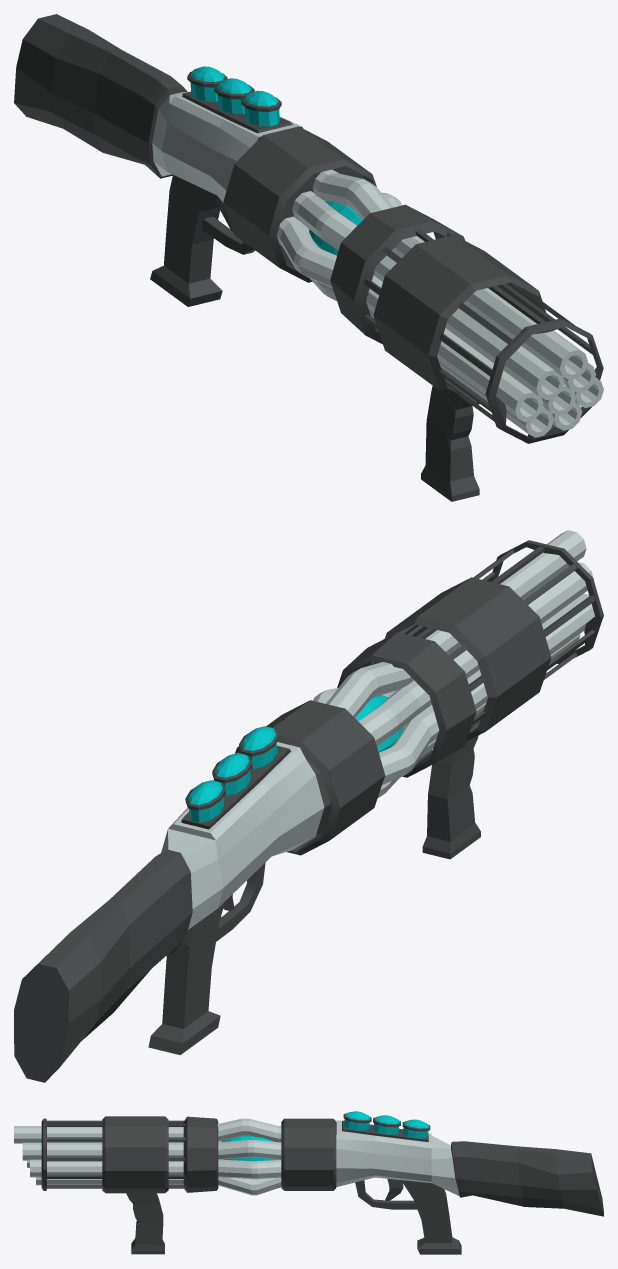
Rendered from Shotgun_B.fbx.
3 views of the same model, one above another, from view 1: azimuth 30°, elevation 25°; view 2: azimuth 150°, elevation 25°; view 3: azimuth 270°, elevation 25° (orthographic). The views are drawn at different scales.
Visible parts, largest first — view 1: pCylinder104, pCylinder130, pCylinder86, pCylinder85, pCube57, pCylinder75, pCylinder73, pCylinder77, pCylinder131, pCylinder94, pCylinder89, pCylinder88 (+7 smaller); view 2: pCylinder104, pCylinder130, pCylinder86, pCylinder85, pCube57, pCylinder75, pCylinder89, pCylinder94, pCylinder88, pCylinder73, pCylinder77, pCylinder131 (+5 smaller); view 3: pCylinder104, pCylinder130, pCylinder86, pCylinder85, pCube57, pCylinder76, pCylinder75, pCylinder80, pCylinder91, group21_pCylinder76, pCylinder89, group21_pCylinder79 (+15 smaller).
Boxes of the visible parts, x1=… form: pCylinder104: x1=14, y1=14, x2=364, y2=267; pCylinder130: x1=373, y1=235, x2=546, y2=501; pCylinder86: x1=223, y1=126, x2=376, y2=282; pCylinder85: x1=330, y1=204, x2=465, y2=344; pCube57: x1=150, y1=175, x2=222, y2=306; pCylinder75: x1=391, y1=236, x2=587, y2=380; pCylinder73: x1=373, y1=255, x2=564, y2=399; pCylinder77: x1=366, y1=275, x2=543, y2=422; pCylinder131: x1=485, y1=318, x2=603, y2=443; pCylinder94: x1=276, y1=216, x2=336, y2=287; pCylinder89: x1=312, y1=169, x2=393, y2=220; pCylinder88: x1=292, y1=191, x2=356, y2=250; pCylinder104: x1=14, y1=742, x2=332, y2=1082; pCylinder130: x1=385, y1=577, x2=551, y2=859; pCylinder86: x1=235, y1=700, x2=385, y2=855; pCylinder85: x1=337, y1=632, x2=476, y2=777; pCube57: x1=148, y1=902, x2=224, y2=1055; pCylinder75: x1=425, y1=530, x2=586, y2=654; pCylinder89: x1=326, y1=662, x2=413, y2=717; pCylinder94: x1=379, y1=713, x2=438, y2=784; pCylinder88: x1=358, y1=684, x2=425, y2=745; pCylinder73: x1=408, y1=562, x2=593, y2=710; pCylinder77: x1=420, y1=593, x2=594, y2=738; pCylinder131: x1=490, y1=540, x2=603, y2=663; pCylinder104: x1=336, y1=1120, x2=603, y2=1216; pCylinder130: x1=102, y1=1116, x2=168, y2=1254; pCylinder86: x1=281, y1=1118, x2=336, y2=1190; pCylinder85: x1=183, y1=1116, x2=218, y2=1192; pCube57: x1=401, y1=1180, x2=461, y2=1254; pCylinder76: x1=22, y1=1142, x2=183, y2=1160; pCylinder75: x1=14, y1=1126, x2=183, y2=1143; pCylinder80: x1=30, y1=1159, x2=183, y2=1177; pCylinder91: x1=218, y1=1159, x2=281, y2=1178; group21_pCylinder76: x1=218, y1=1140, x2=281, y2=1159; pCylinder89: x1=217, y1=1118, x2=281, y2=1142; group21_pCylinder79: x1=218, y1=1177, x2=281, y2=1195.
Bounding box in the file's own units: 2.66 × 20.19 × 5.26.
